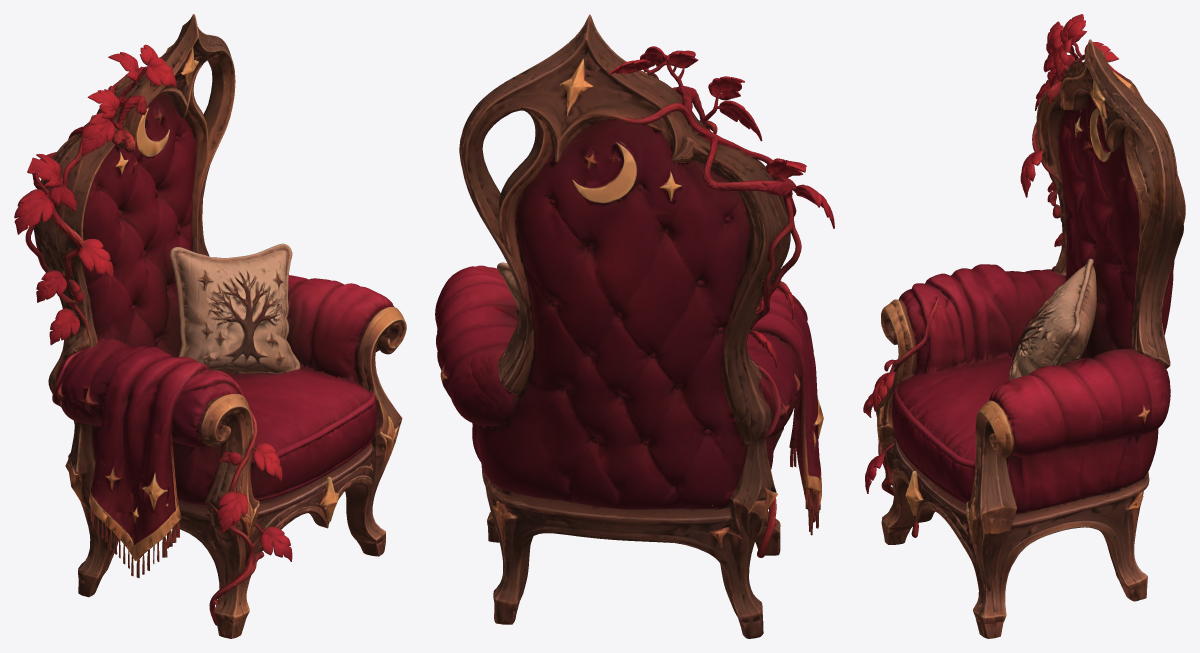
The model's file is armchair.glb.
3 renders of one model, left to right at view 1: azimuth 30°, elevation 25°; view 2: azimuth 150°, elevation 25°; view 3: azimuth 270°, elevation 25°, orthographic. The views are drawn at different scales.
Visible parts, largest first — view 1: tripo_node_c9052765-1011-4049-a195-cd57ffeef776; view 2: tripo_node_c9052765-1011-4049-a195-cd57ffeef776; view 3: tripo_node_c9052765-1011-4049-a195-cd57ffeef776.
Boxes of the visible parts, x1=… form: tripo_node_c9052765-1011-4049-a195-cd57ffeef776: x1=14, y1=14, x2=406, y2=638; tripo_node_c9052765-1011-4049-a195-cd57ffeef776: x1=435, y1=14, x2=834, y2=638; tripo_node_c9052765-1011-4049-a195-cd57ffeef776: x1=863, y1=14, x2=1185, y2=638.
Bounding box in the file's own units: 0.6984 × 0.9763 × 0.5363.
1 material, 1 textured.
